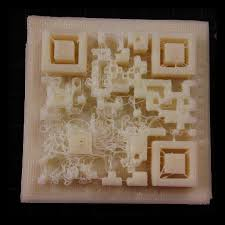fail: (34, 95, 152, 188)
